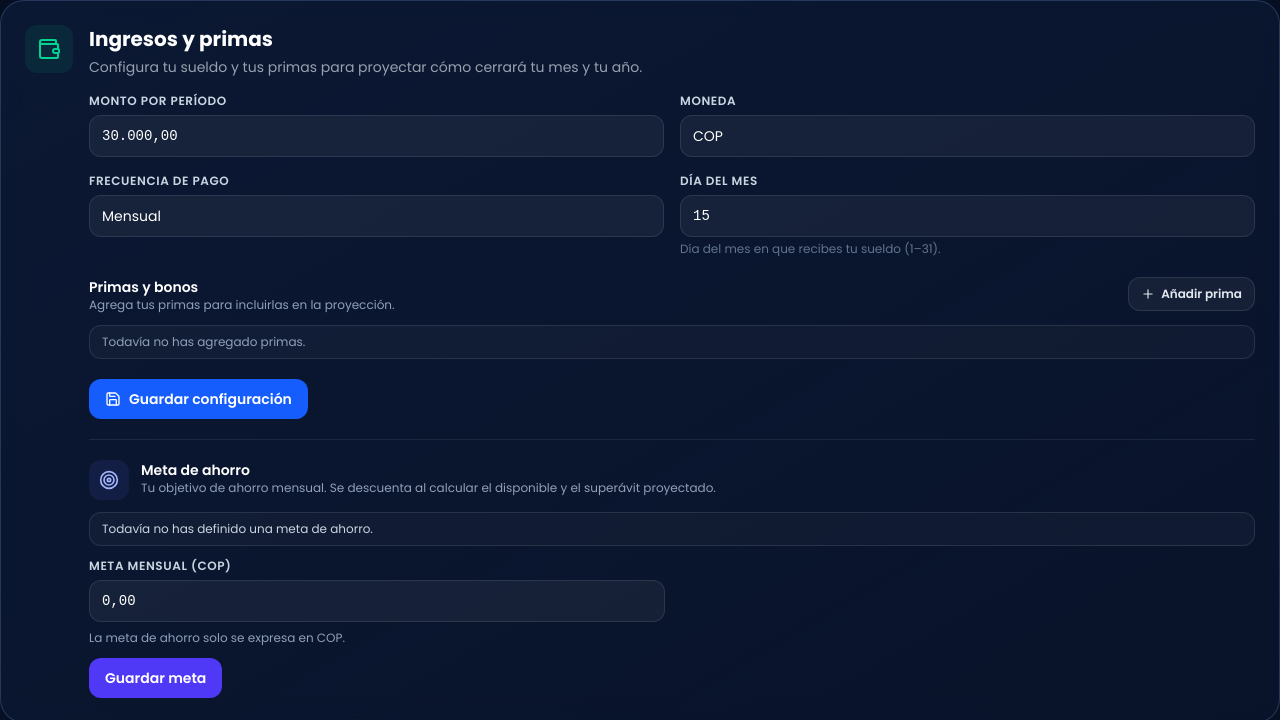
Test: SalarySettingsSection › maps an expired session on target save to the session message
Expected: the field labelled "Meta mensual (COP)" is shown, [89,580,665,622]
Click the button "Guardar meta" at {"x": 156, "y": 678}, box [89,658,222,698]
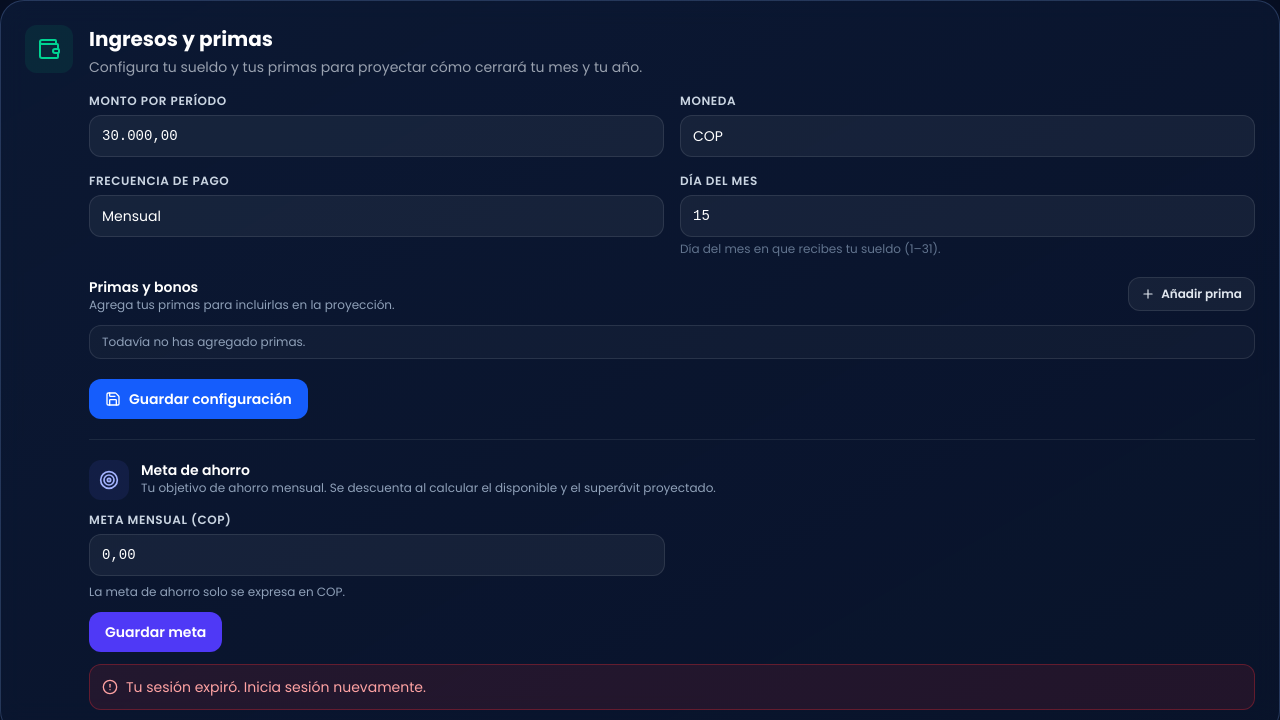
Expected: the text "Tu sesión expiró. Inicia sesión nuevamente." is shown, [89,664,1255,710]
